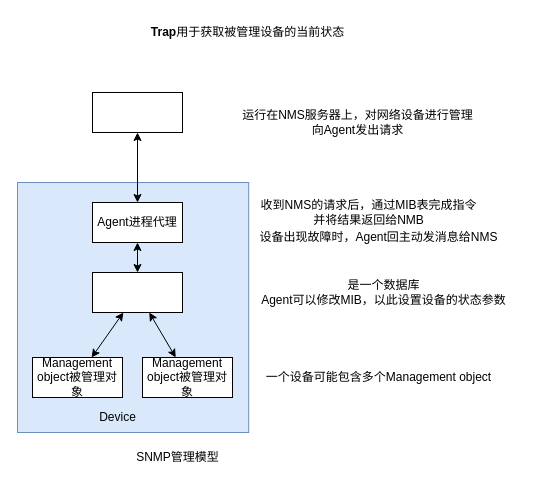
The diagram is 536 pixels wide and 489 high, and some of its shapes have lost their labels. The box of each missing label's shape, as (x1, y1, x2, y2) in pixels:
MIB管理信息库: (92, 272, 182, 312)
NMS（网络管理系统）: (92, 92, 182, 132)
